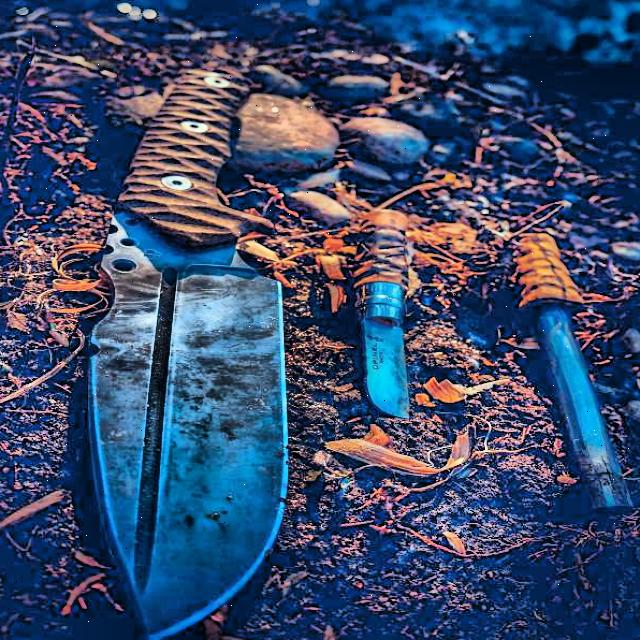knife: (93, 53, 309, 640)
